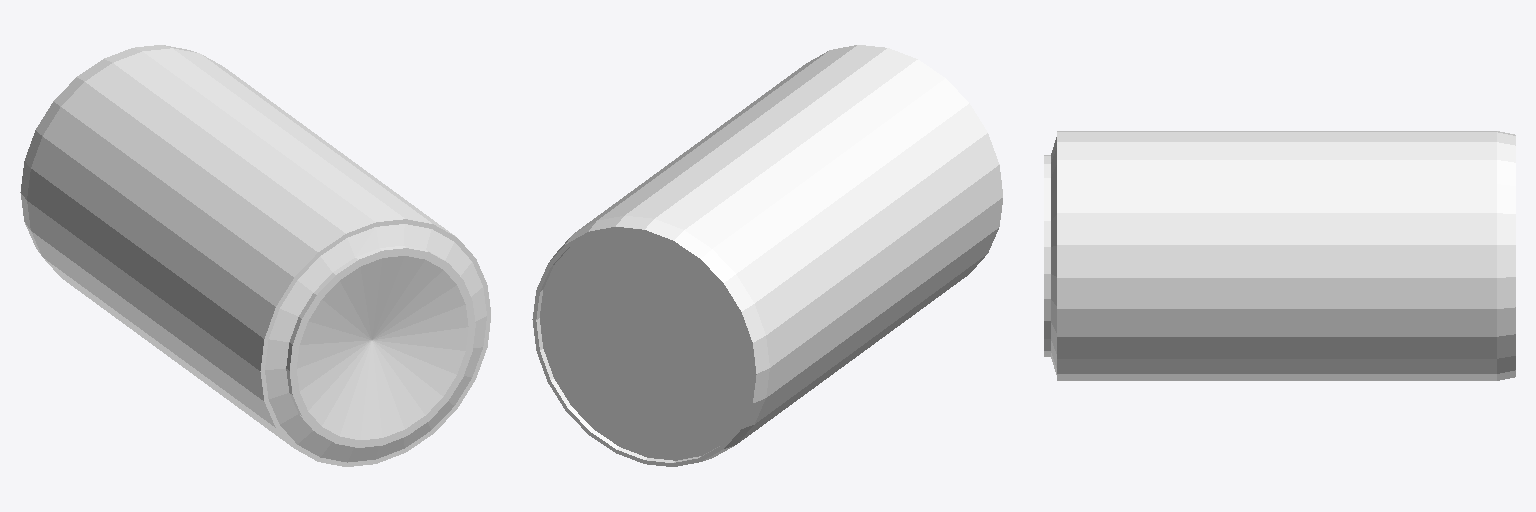
The robot description file, URDF, robot "textured":
<?xml version="1.0" ?>
<robot name="textured">
  <link name="base_link">
    <contact>
      <lateral_friction value="1.0"/>
      <rolling_friction value="1.0"/>
      <spinning_friction value="1.0"/>
      <inertia_scaling value="1.0"/>
    </contact>
    <inertial>
      <origin rpy="0 0 0" xyz="0 0 -0.08"/>
       <mass value="1.0"/>
       <inertia ixx="1" ixy="0" ixz="0" iyy="1" iyz="0" izz="1"/>
    </inertial>
    <visual>
      <origin rpy="0 0 0" xyz="0 0 -0.04"/>
      <geometry>
        <mesh filename="model.obj" scale=".7 .7 .7"/>
      </geometry>
      <material name="white">
        <color rgba="1 1 1 1"/>
      </material>
    </visual>
    <collision>
      <origin rpy="0 0 0" xyz="0 0 0"/>
      <geometry>
        <mesh filename="model.obj" scale=".7 .7 .7"/>
      </geometry>
    </collision>
  </link>
</robot>

--- Facts derived from the render (not from the file) ---
3 views of the same robot in one strip: view 1: azimuth 30°, elevation 25°; view 2: azimuth 150°, elevation 25°; view 3: azimuth 270°, elevation 25° (orthographic).
Model textured with 1 links and 0 joints (none), rooted at base_link, posed all joints at 0.
Visible links, largest first — view 1: base_link; view 2: base_link; view 3: base_link.
Link boxes in pixels (x1,y1,x2,y2): base_link: [20, 45, 490, 466]; base_link: [532, 45, 1002, 466]; base_link: [1044, 131, 1515, 380].
Size in the robot's own frame: 0.2981 by 0.5589 by 0.2981 metres.
1 mesh visuals loaded from 1 distinct referenced files (1 OBJ).